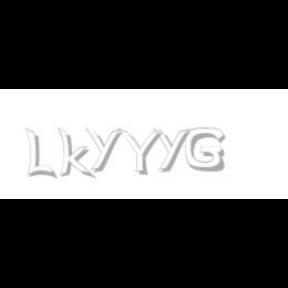G: (185, 128, 225, 172)
L: (26, 128, 54, 180)
Y: (117, 128, 163, 176)
k: (57, 128, 95, 180)
y: (85, 128, 125, 172), (153, 128, 193, 172)
